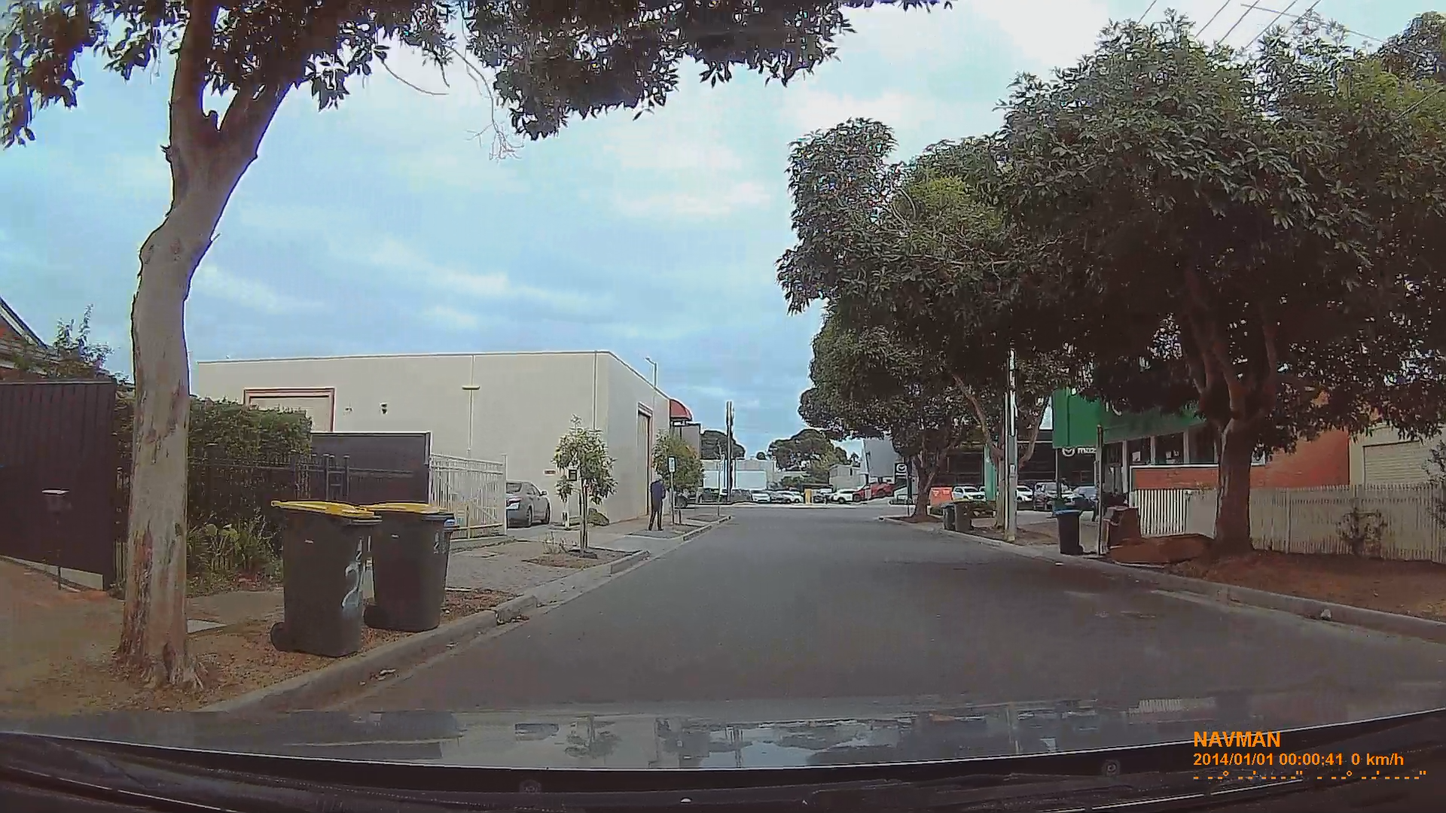fences: (1251, 486, 1445, 563)
